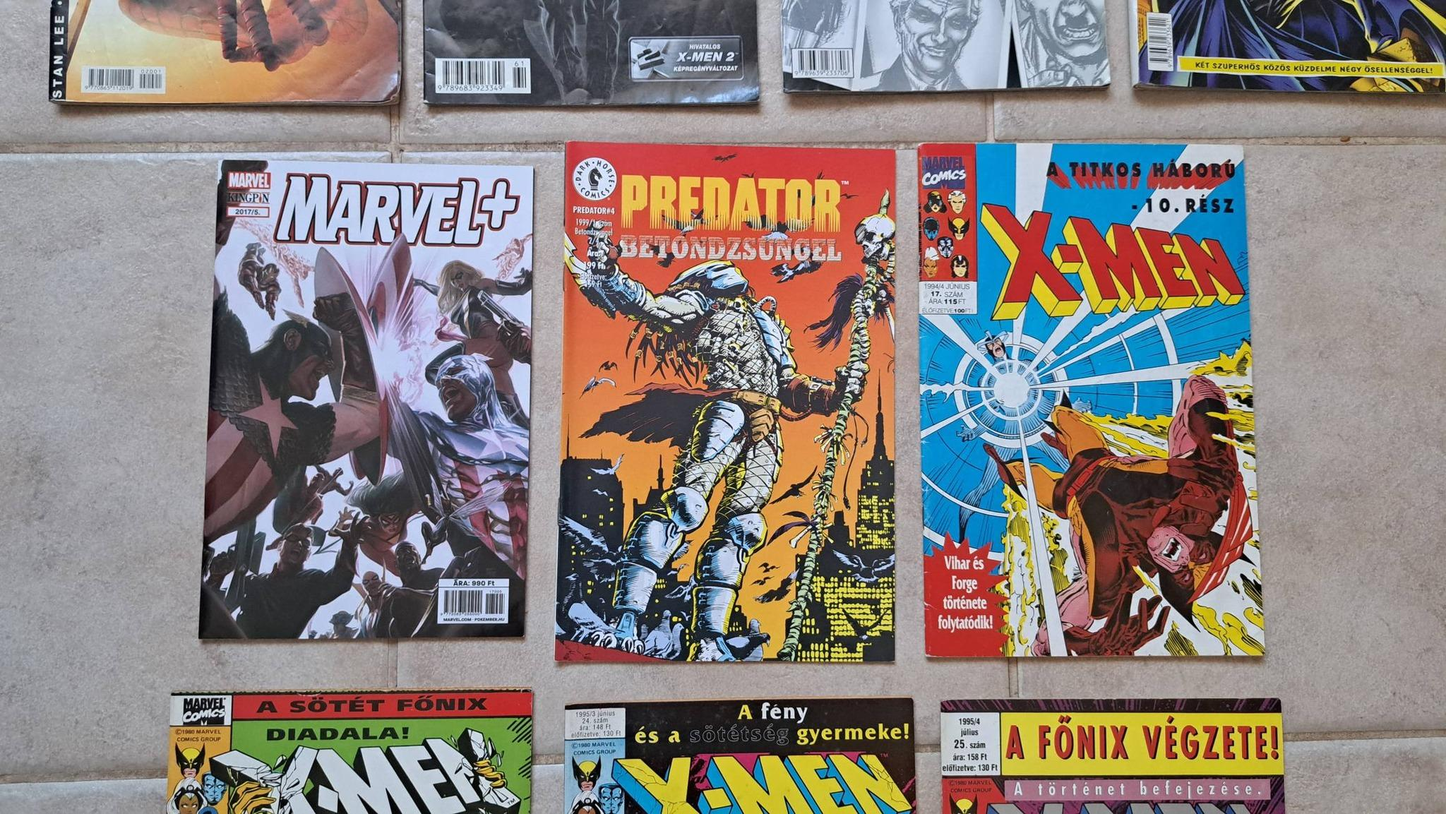comic: (913, 137, 1264, 663), (556, 142, 897, 663), (200, 159, 536, 645)
